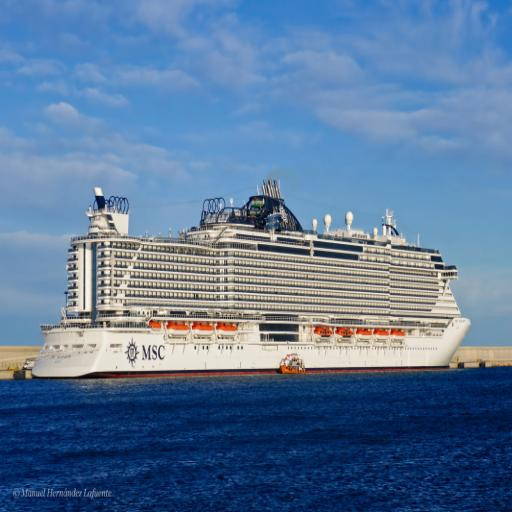cruises: (31, 162, 477, 382)
